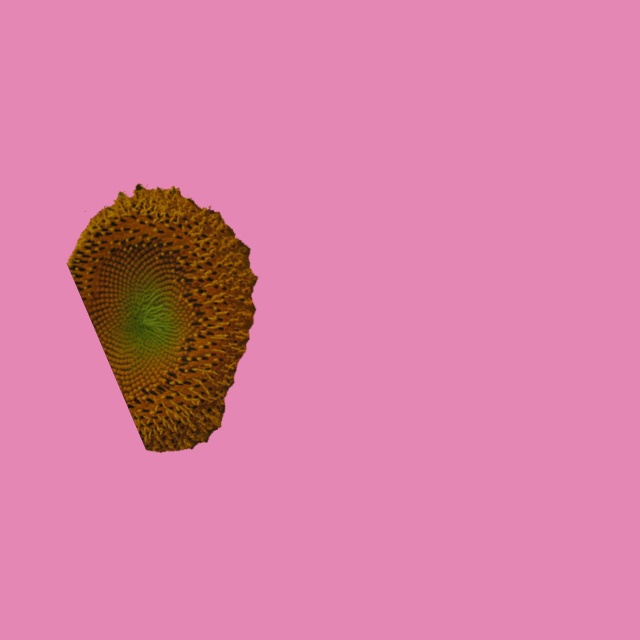sunflower: (67, 184, 257, 452)
